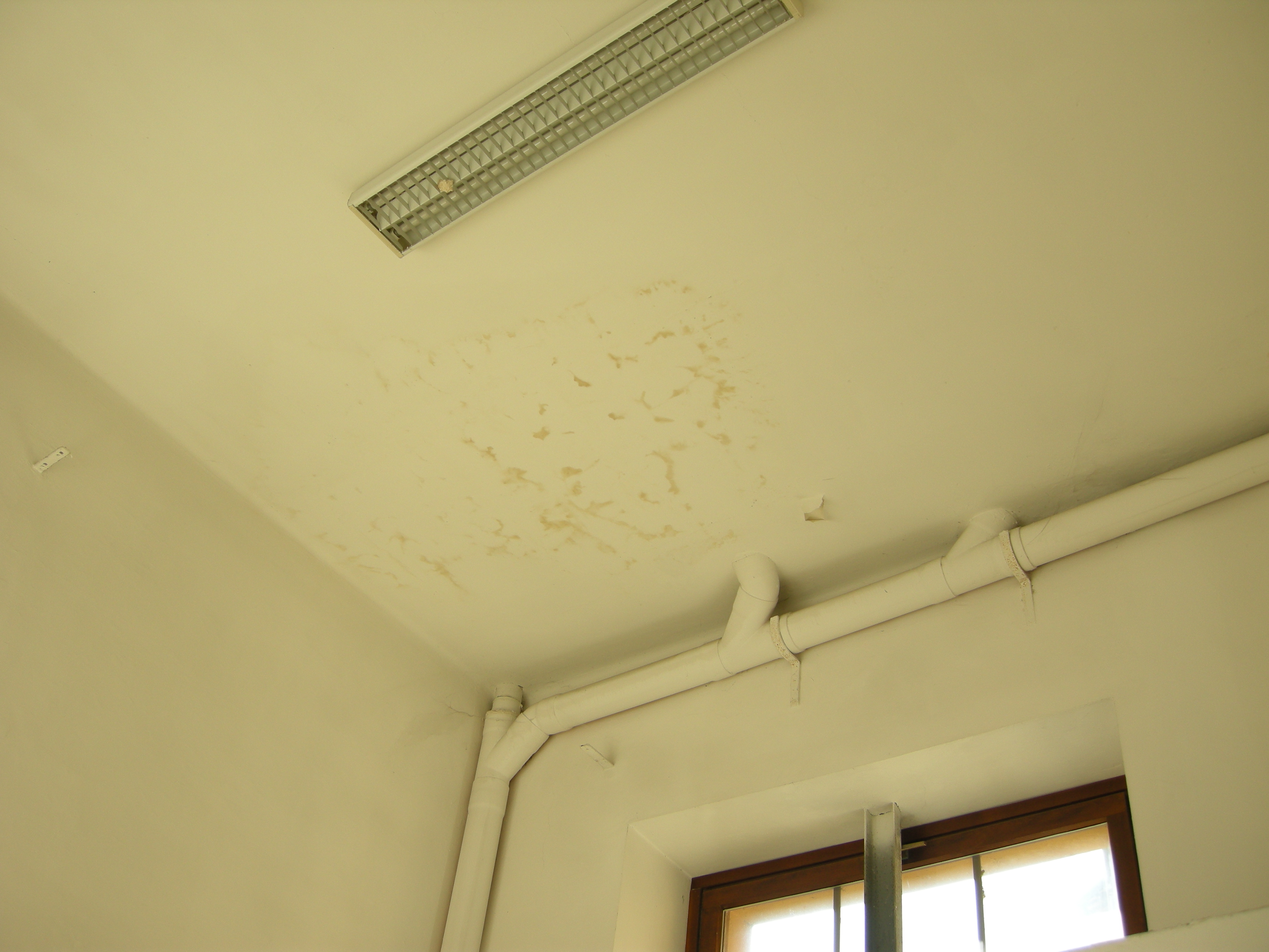Spalling: (266, 261, 850, 612)
